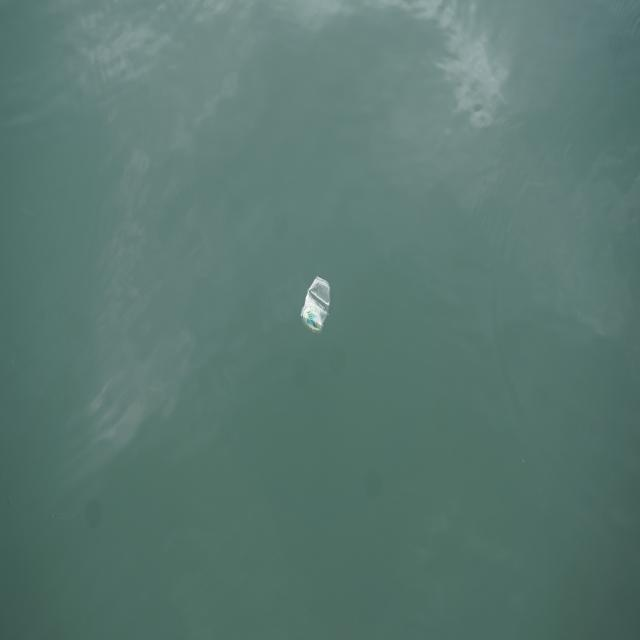Bungkus Minuman: (302, 274, 332, 342)
